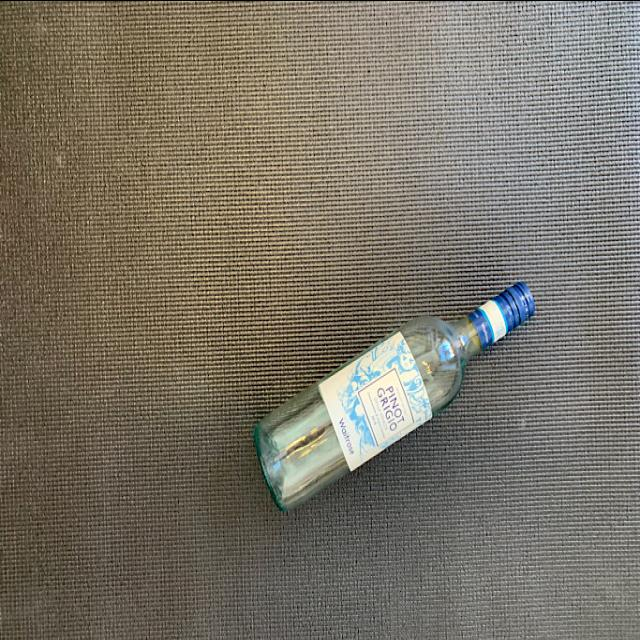Glass Bottle: (251, 278, 535, 512)
